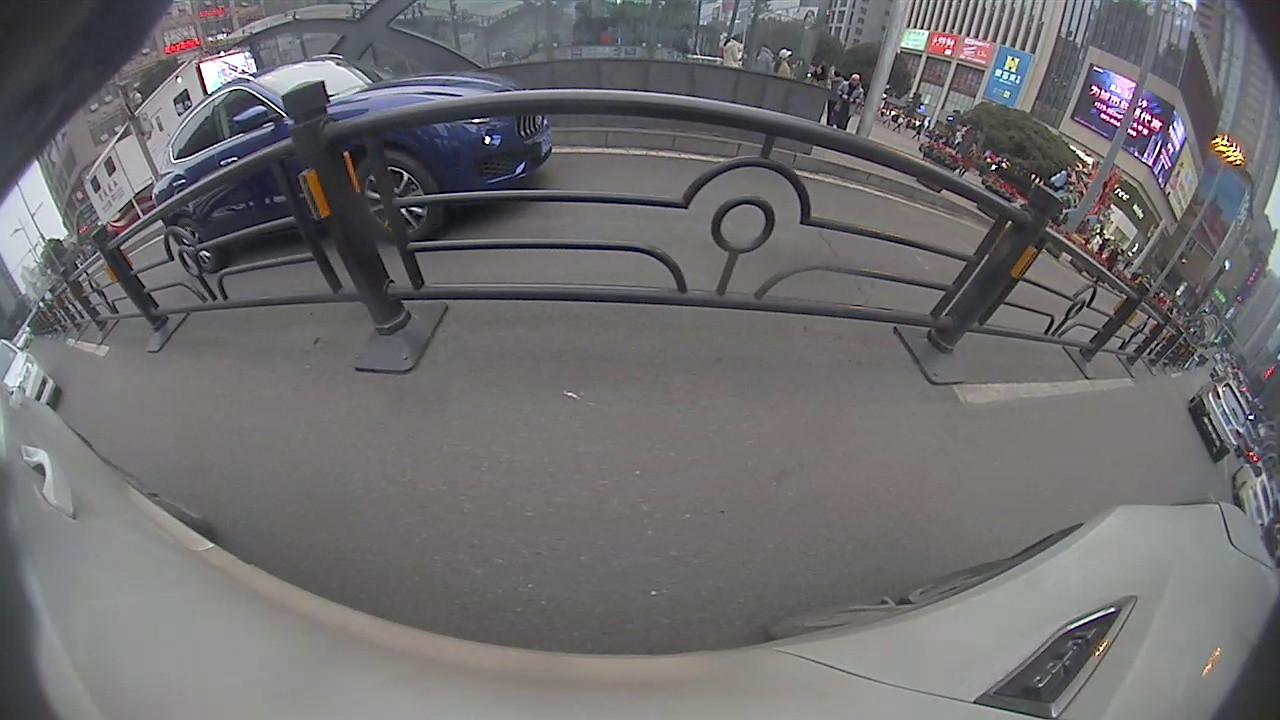car: (149, 53, 553, 276), (1187, 378, 1251, 461)
front: (351, 150, 439, 241)
rear: (171, 219, 223, 273)
